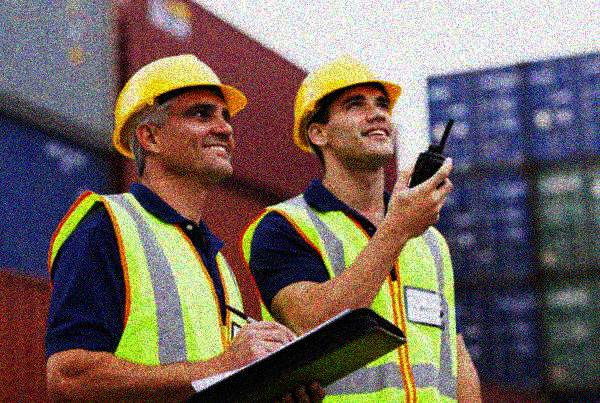helmet: (110, 49, 250, 183), (289, 58, 402, 167)
